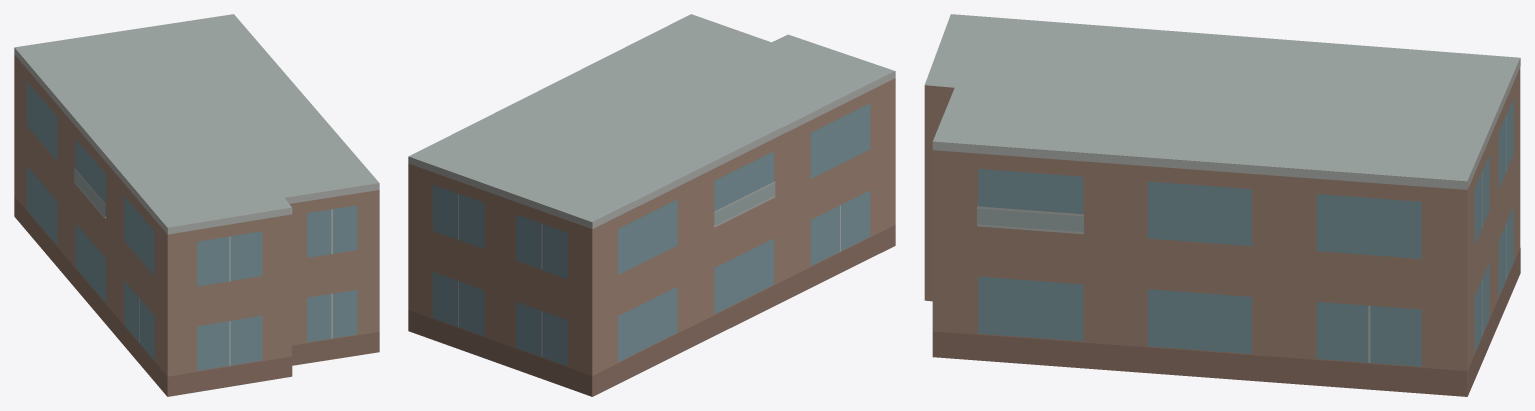
The model's file is survey-upis-32651627.glb.
3 renders of one model, left to right at view 1: azimuth 30°, elevation 25°; view 2: azimuth 150°, elevation 25°; view 3: azimuth 270°, elevation 25°, orthographic. The views are drawn at different scales.
Parts seen in each view (by area): view 1: survey-upis-32651627.tmp; view 2: survey-upis-32651627.tmp; view 3: survey-upis-32651627.tmp.
Part boxes in pixels (left/top/right/bottom): survey-upis-32651627.tmp: left=14, top=14, right=379, bottom=396; survey-upis-32651627.tmp: left=408, top=14, right=895, bottom=396; survey-upis-32651627.tmp: left=924, top=14, right=1520, bottom=396.
Bounding box in the file's own units: 10.17 × 6.1 × 15.3.
